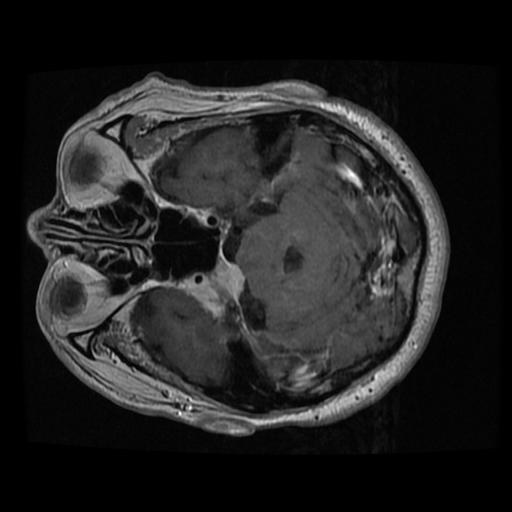meningioma: (182, 257, 245, 315)
